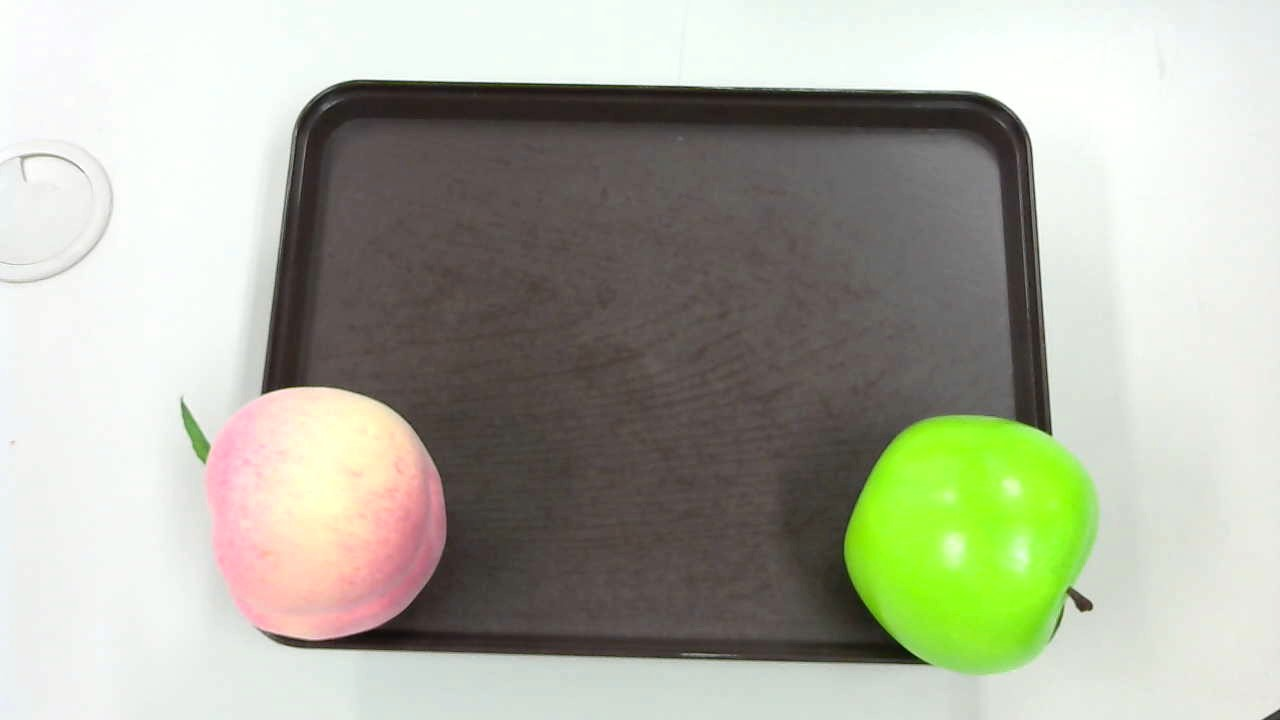green apple: (838, 411, 1102, 681)
peach: (172, 386, 444, 639)
